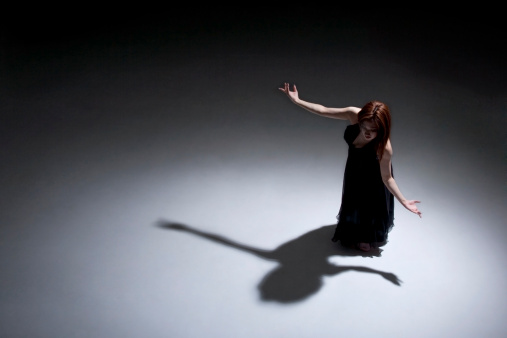em pe: (256, 70, 425, 293)
